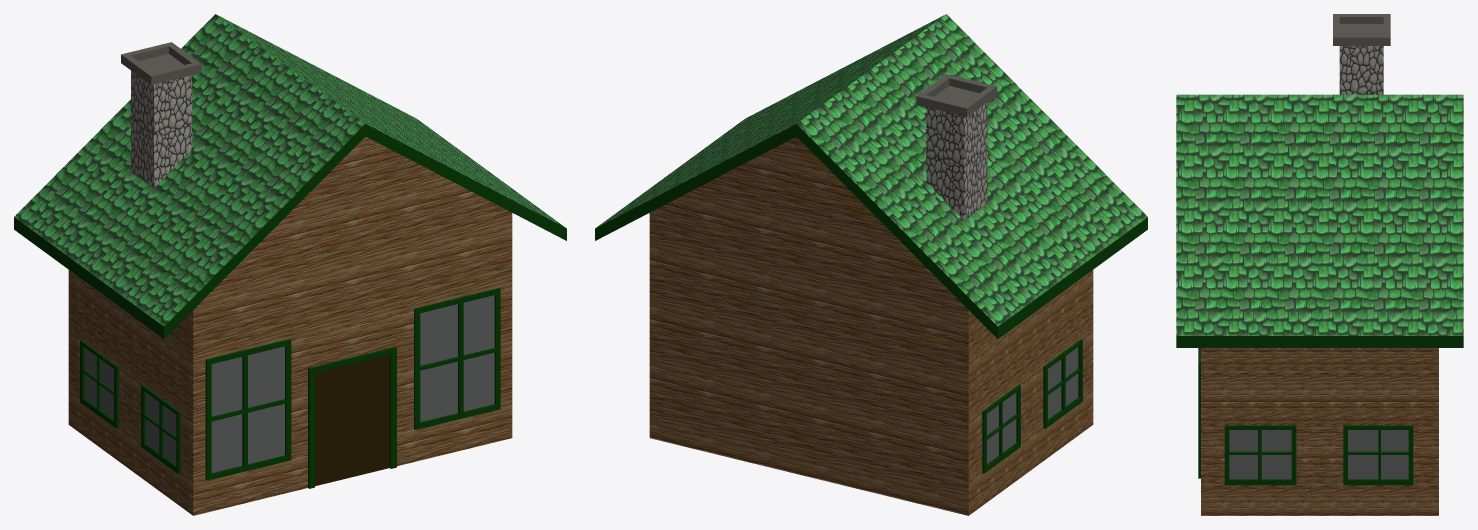
Rendered from House01.fbx.
The picture shows the model from 3 angles, left to right: view 1: azimuth 30°, elevation 25°; view 2: azimuth 150°, elevation 25°; view 3: azimuth 270°, elevation 25°; orthographic projection. The views are drawn at different scales.
Parts seen in each view (by area): view 1: polySurface1, House01_Roof, House01_Chimney; view 2: polySurface1, House01_Roof, House01_Chimney; view 3: House01_Roof, polySurface1, House01_Chimney.
Boxes of the visible parts, box(x1,y1,x2,y2) form: polySurface1: box(68, 136, 512, 515); House01_Roof: box(14, 14, 566, 338); House01_Chimney: box(121, 42, 201, 188); polySurface1: box(649, 136, 1093, 515); House01_Roof: box(595, 14, 1147, 338); House01_Chimney: box(916, 74, 997, 220); House01_Roof: box(1176, 94, 1463, 347); polySurface1: box(1198, 348, 1438, 515); House01_Chimney: box(1333, 14, 1390, 94).
Bounding box in the file's own units: 145 × 132 × 93.61.
7 materials, 3 textured.
